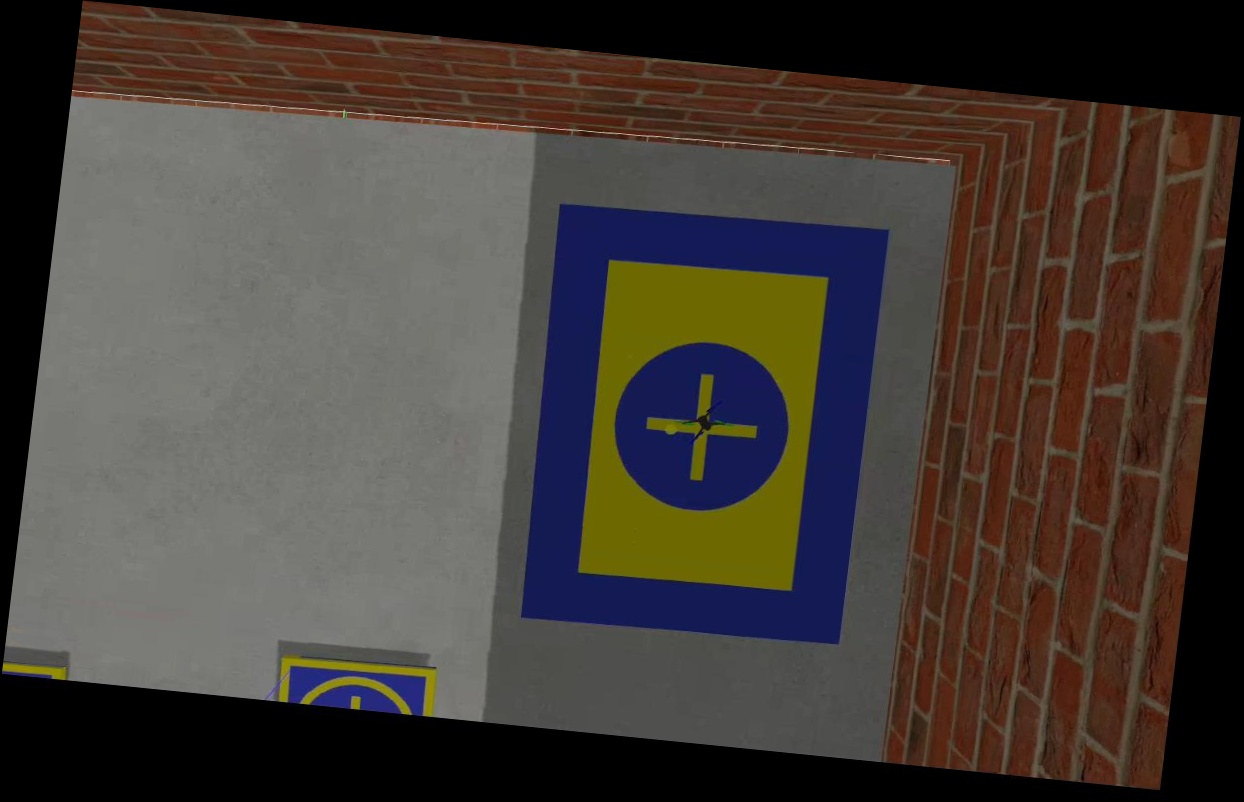large_base: (510, 196, 893, 654)
small_base: (274, 652, 440, 719)
